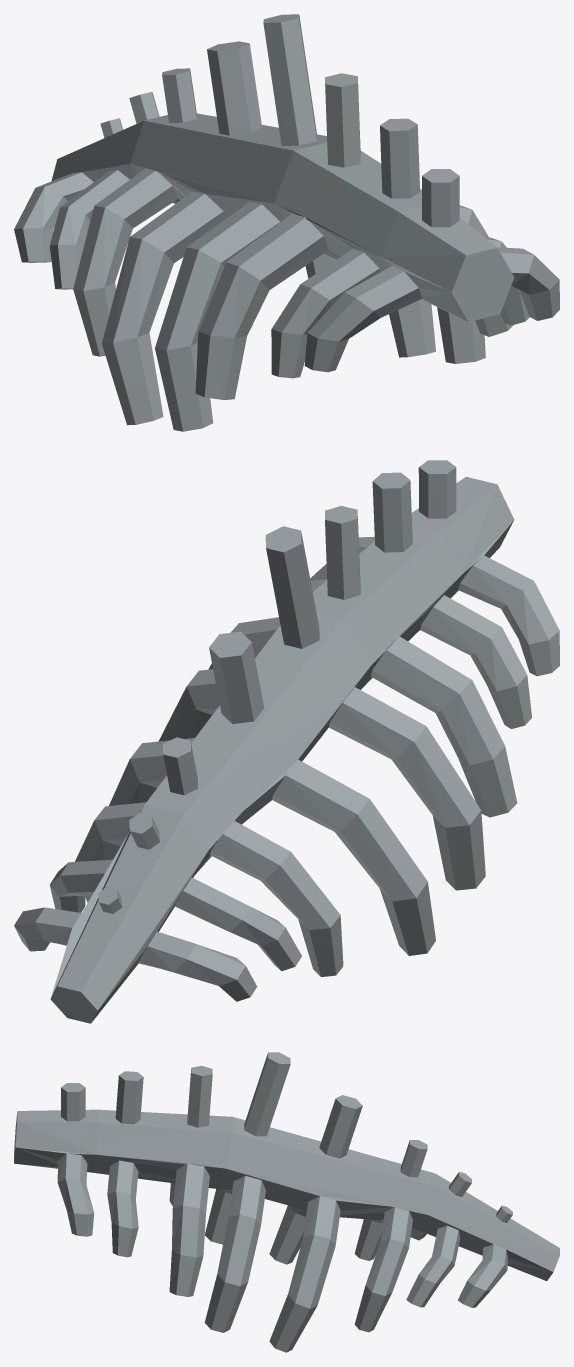
The model's file is bones.fbx.
3 views of the same model, one above another, from view 1: azimuth 30°, elevation 25°; view 2: azimuth 150°, elevation 25°; view 3: azimuth 270°, elevation 25° (orthographic). The views are drawn at different scales.
Visible parts, largest first — view 1: Prop_Bones_Beast_Ribs_Spined_01; view 2: Prop_Bones_Beast_Ribs_Spined_01; view 3: Prop_Bones_Beast_Ribs_Spined_01.
Part boxes in pixels (x1,y1,x2,y2): Prop_Bones_Beast_Ribs_Spined_01: (14, 14, 559, 431); Prop_Bones_Beast_Ribs_Spined_01: (14, 460, 559, 1023); Prop_Bones_Beast_Ribs_Spined_01: (14, 1052, 559, 1352).
Size of the model in its own units: 170 by 197 by 389.
Materials: 1 (1 with a texture image).
